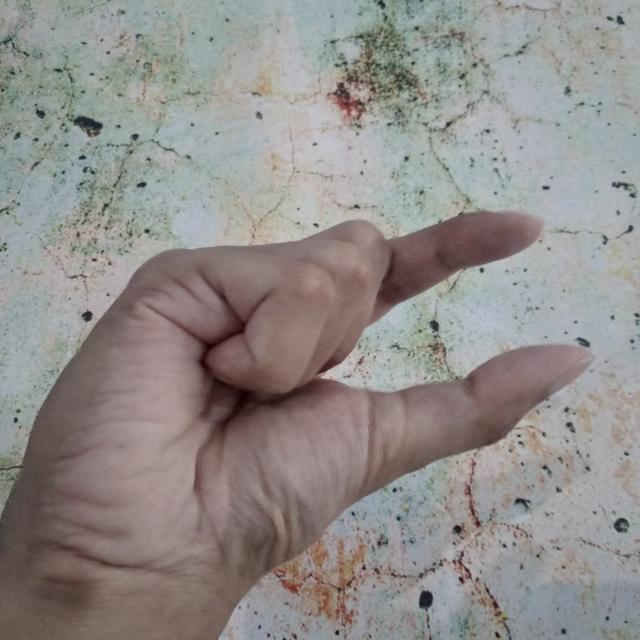G: (0, 201, 597, 640)
